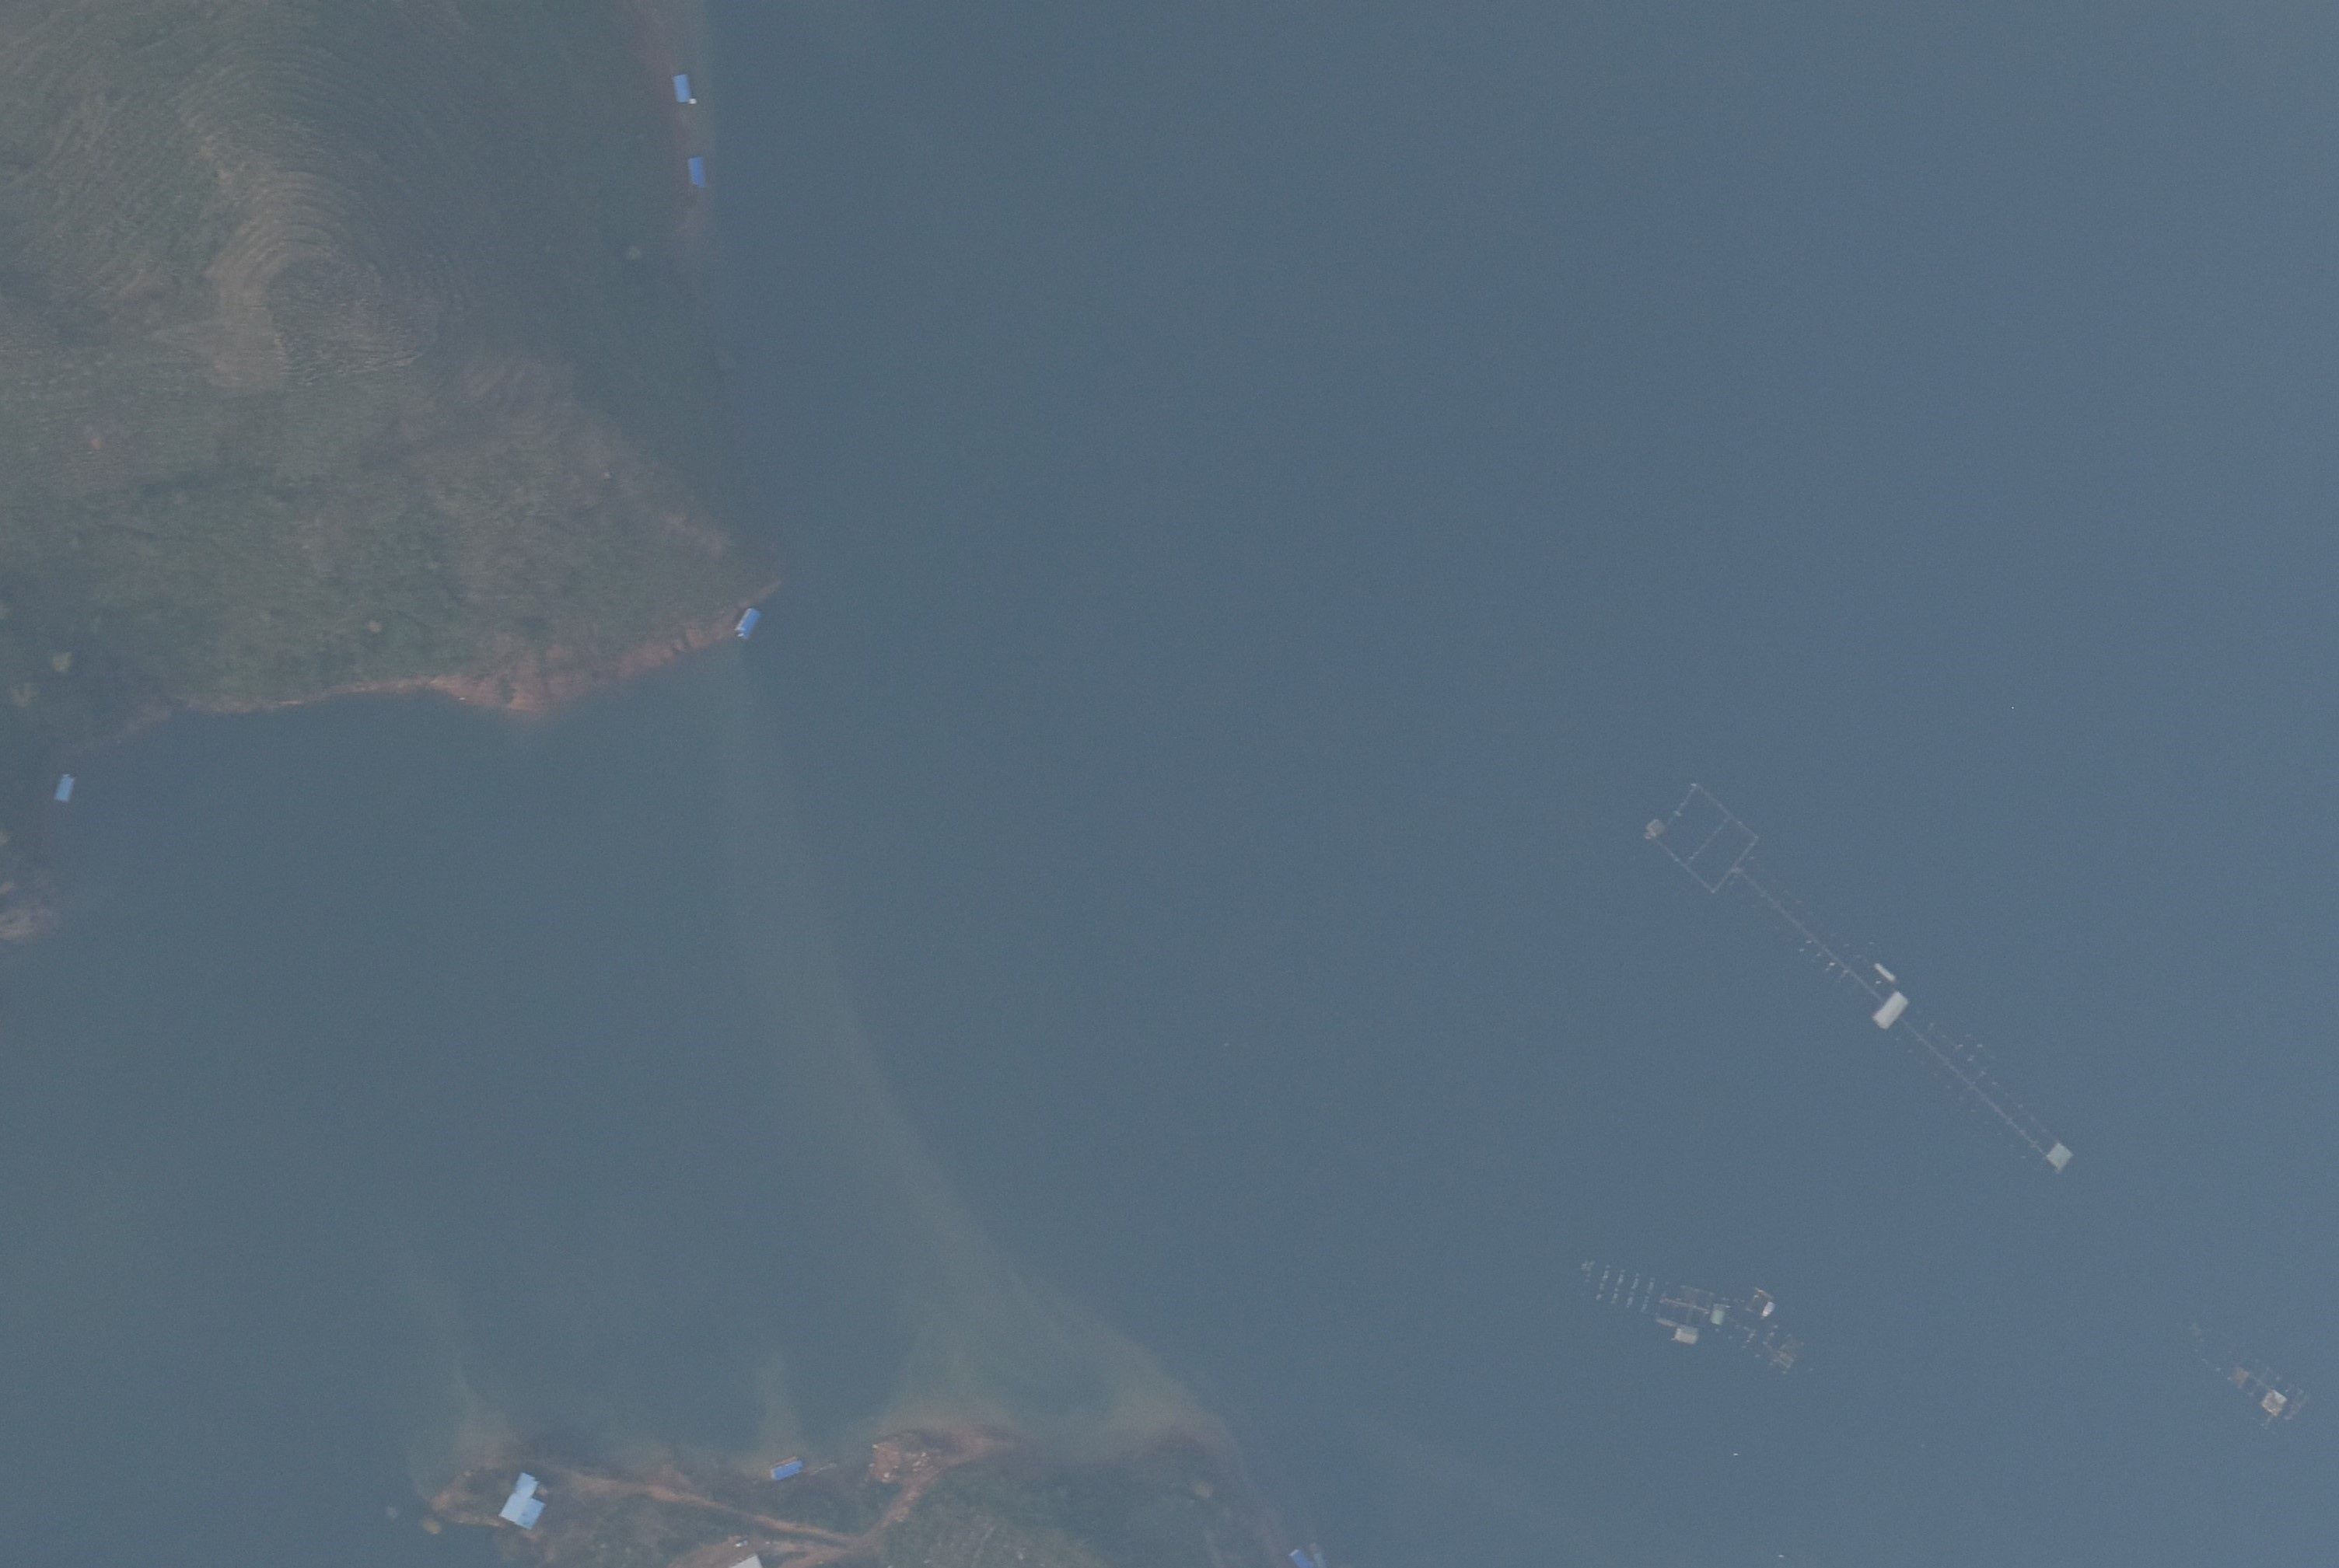cultivation-mesh-cage: (1731, 852, 1890, 1014), (1891, 1010, 2056, 1158), (2169, 1315, 2308, 1434), (1659, 784, 1759, 896), (1579, 1258, 1714, 1329), (1722, 1302, 1802, 1376)
prefabricated-house: (498, 1472, 551, 1534), (730, 602, 766, 644), (767, 1453, 806, 1484), (1873, 994, 1908, 1026), (669, 71, 701, 107), (682, 153, 711, 191), (52, 771, 82, 802), (2046, 1141, 2075, 1171), (2262, 1388, 2287, 1417), (1287, 1542, 1313, 1568), (1673, 1325, 1703, 1346), (2229, 1367, 2250, 1389), (1710, 1302, 1729, 1325), (1647, 819, 1666, 838)
